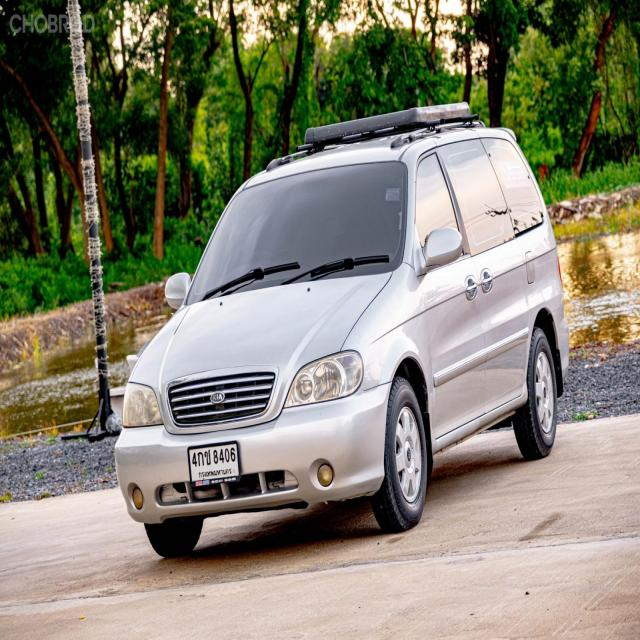car: (113, 99, 571, 560)
license_plate: (187, 440, 241, 486)
plate_number: (191, 447, 236, 467)
province: (198, 468, 232, 480)
